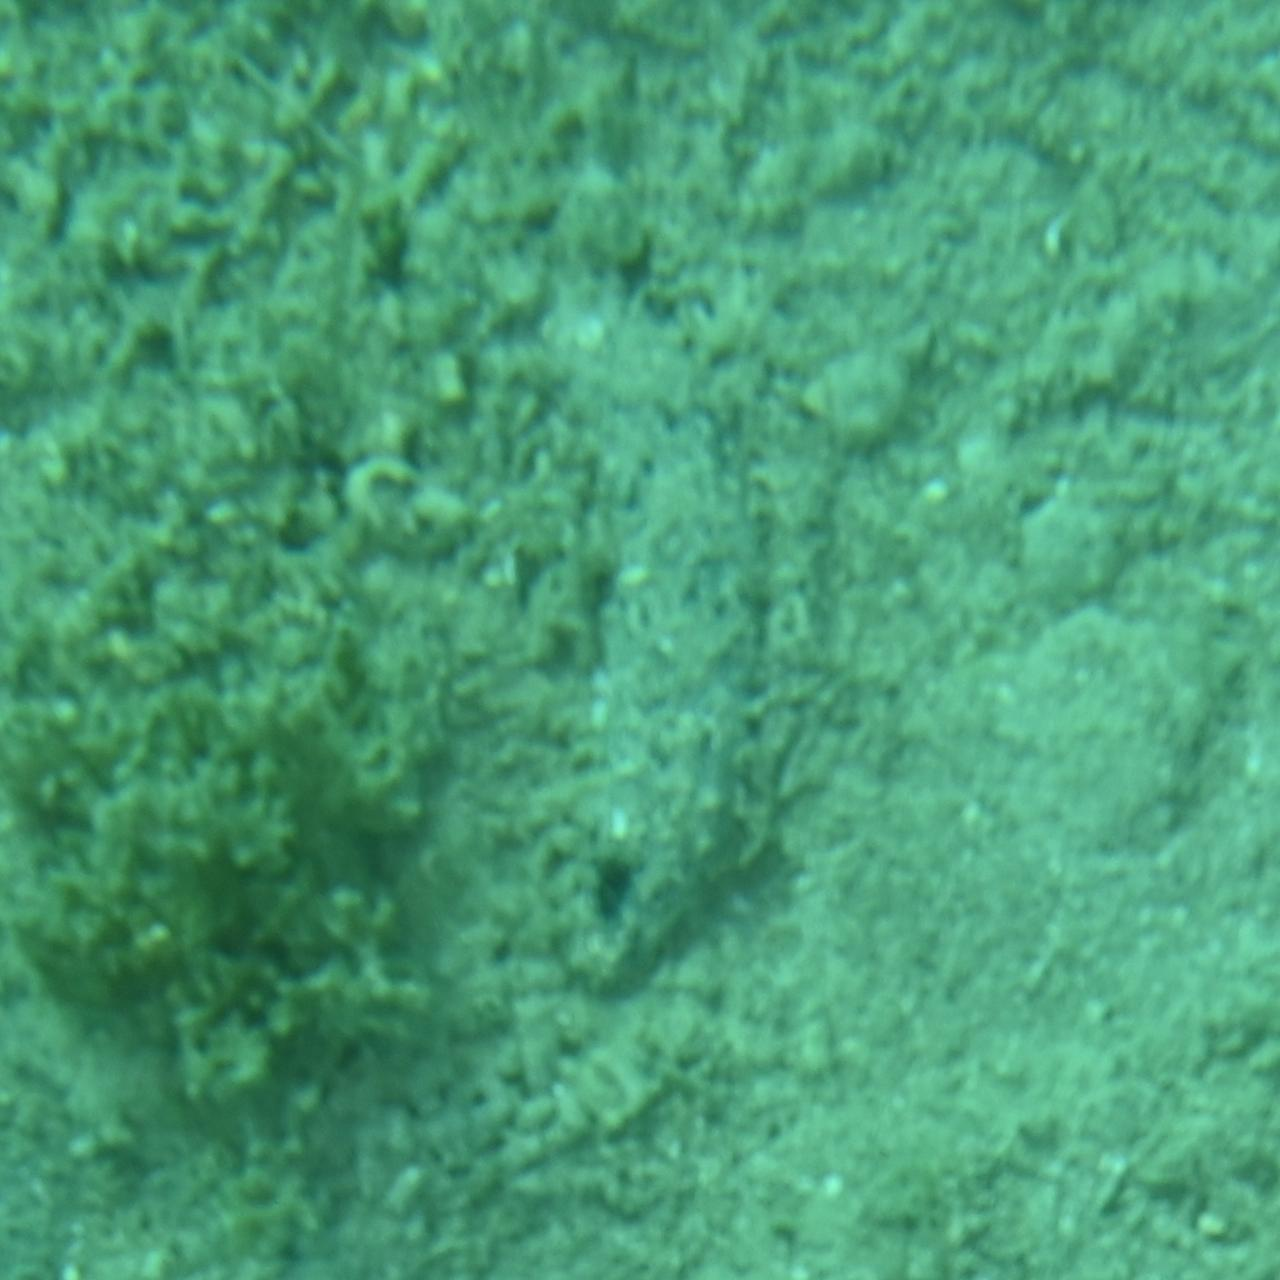Holothuria tubulosa: (508, 268, 772, 1012)
